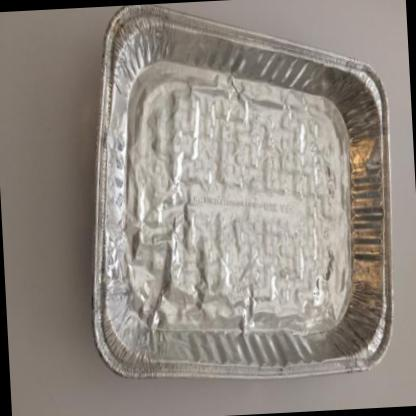Metal: (91, 6, 391, 377)
